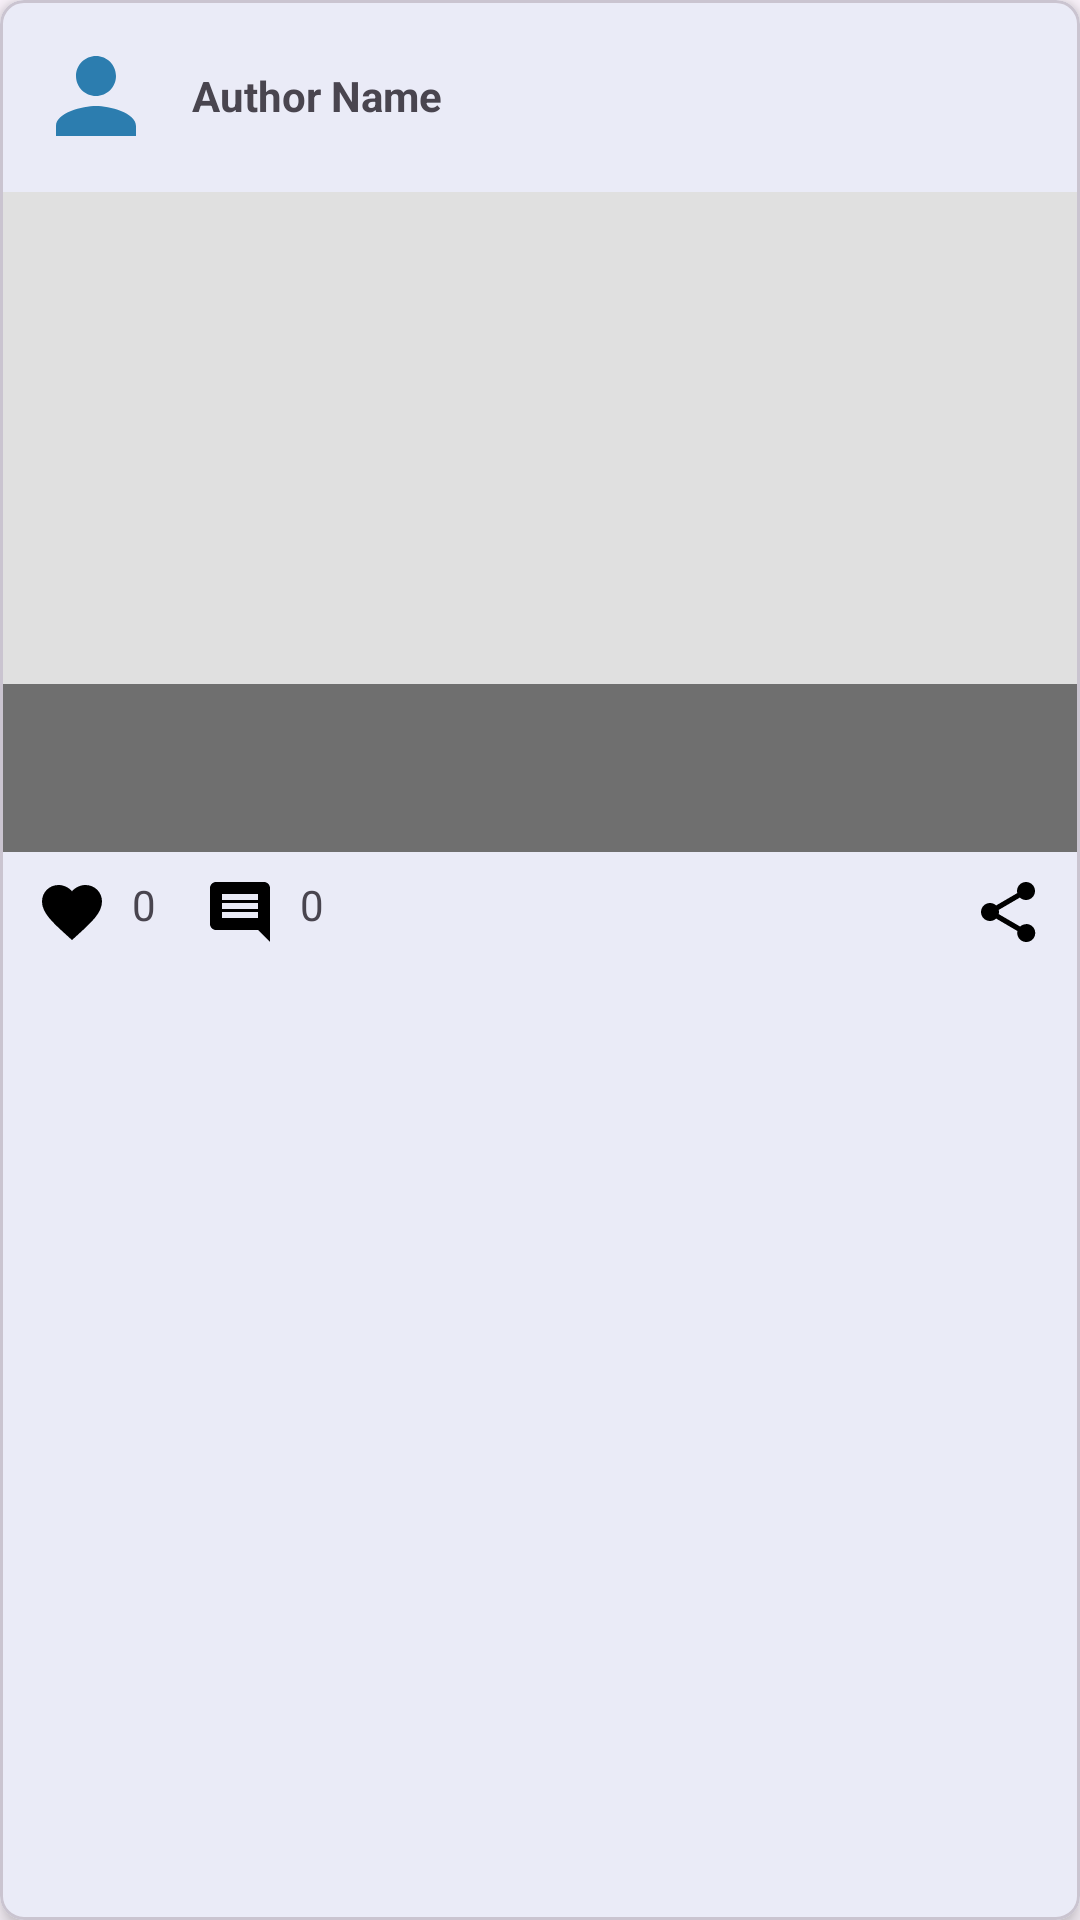

Point at icon controls on the screen. Image size 1080x1920, points as (x=x, y=y).
Author avatar: (x=96, y=96)
Comments: (x=240, y=912)
Like post: (x=72, y=912)
Share post: (x=1008, y=912)
